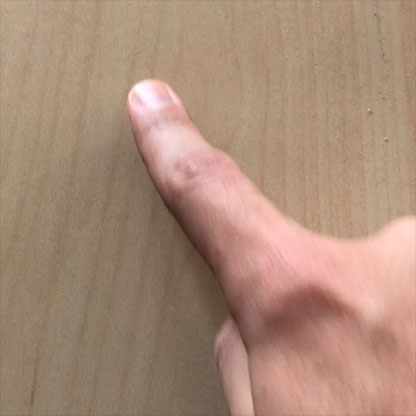fingertip: (119, 69, 191, 123)
